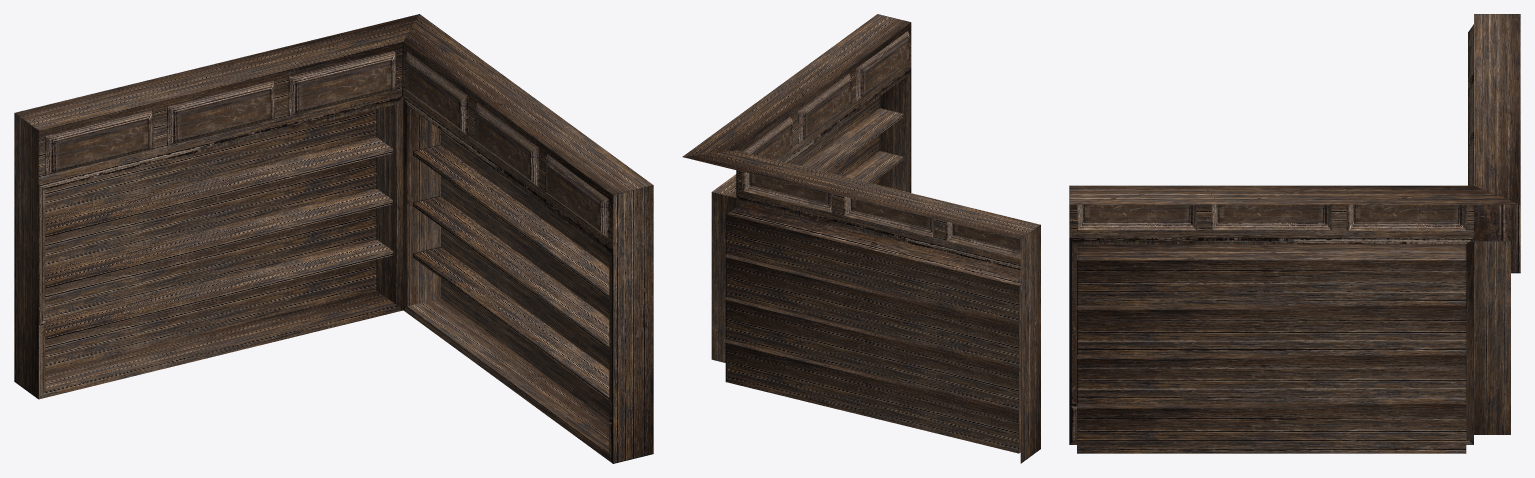
3 views of the same model, side by side, from view 1: azimuth 30°, elevation 25°; view 2: azimuth 150°, elevation 25°; view 3: azimuth 270°, elevation 25° (orthographic). The views are drawn at different scales.
Parts seen in each view (by area): view 1: L-Ext001; view 2: L-Ext001; view 3: L-Ext001.
Boxes of the visible parts, <box> form: L-Ext001: <box>14,14,653,463</box>; L-Ext001: <box>682,14,1040,463</box>; L-Ext001: <box>1069,14,1520,453</box>.
Size of the model in its own units: 300 by 190 by 300.
